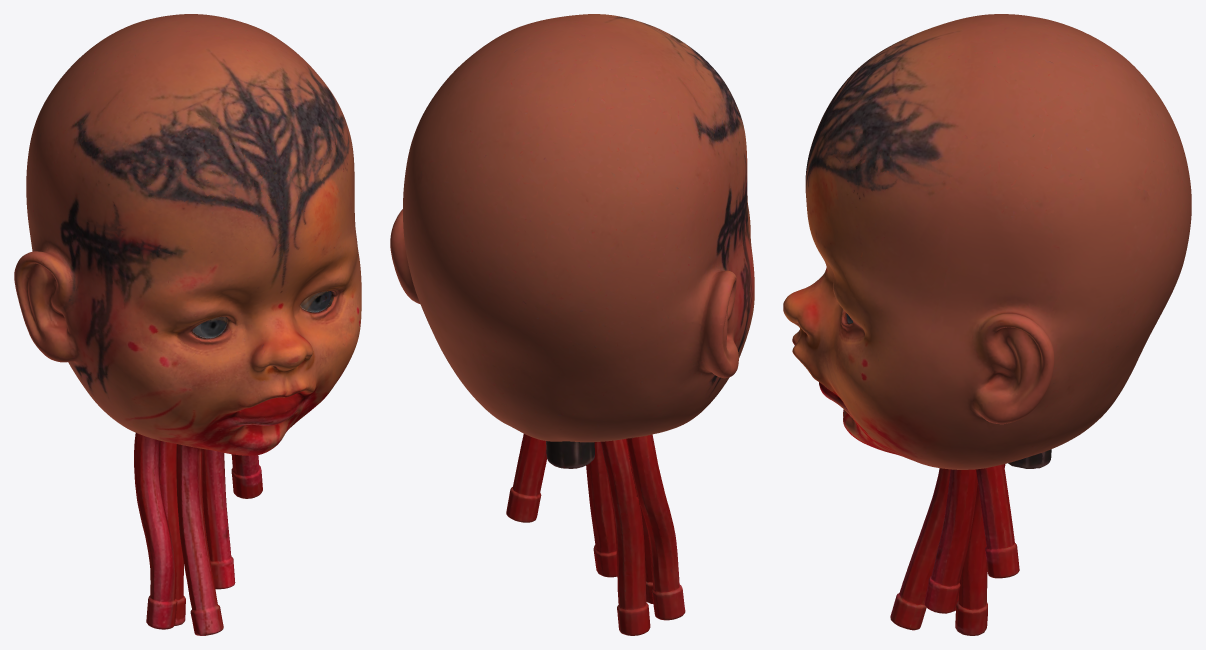
The model's file is nox-doll.glb.
3 renders of one model, left to right at view 1: azimuth 30°, elevation 25°; view 2: azimuth 150°, elevation 25°; view 3: azimuth 270°, elevation 25°, orthographic. The views are drawn at different scales.
Parts seen in each view (by area): view 1: world; view 2: world; view 3: world.
Part boxes in pixels (x1,y1,x2,y2): world: [14, 14, 361, 635]; world: [390, 14, 754, 635]; world: [783, 14, 1191, 635].
Size of the model in its own units: 0.5835 by 1 by 0.5985.
1 material, 1 textured.
